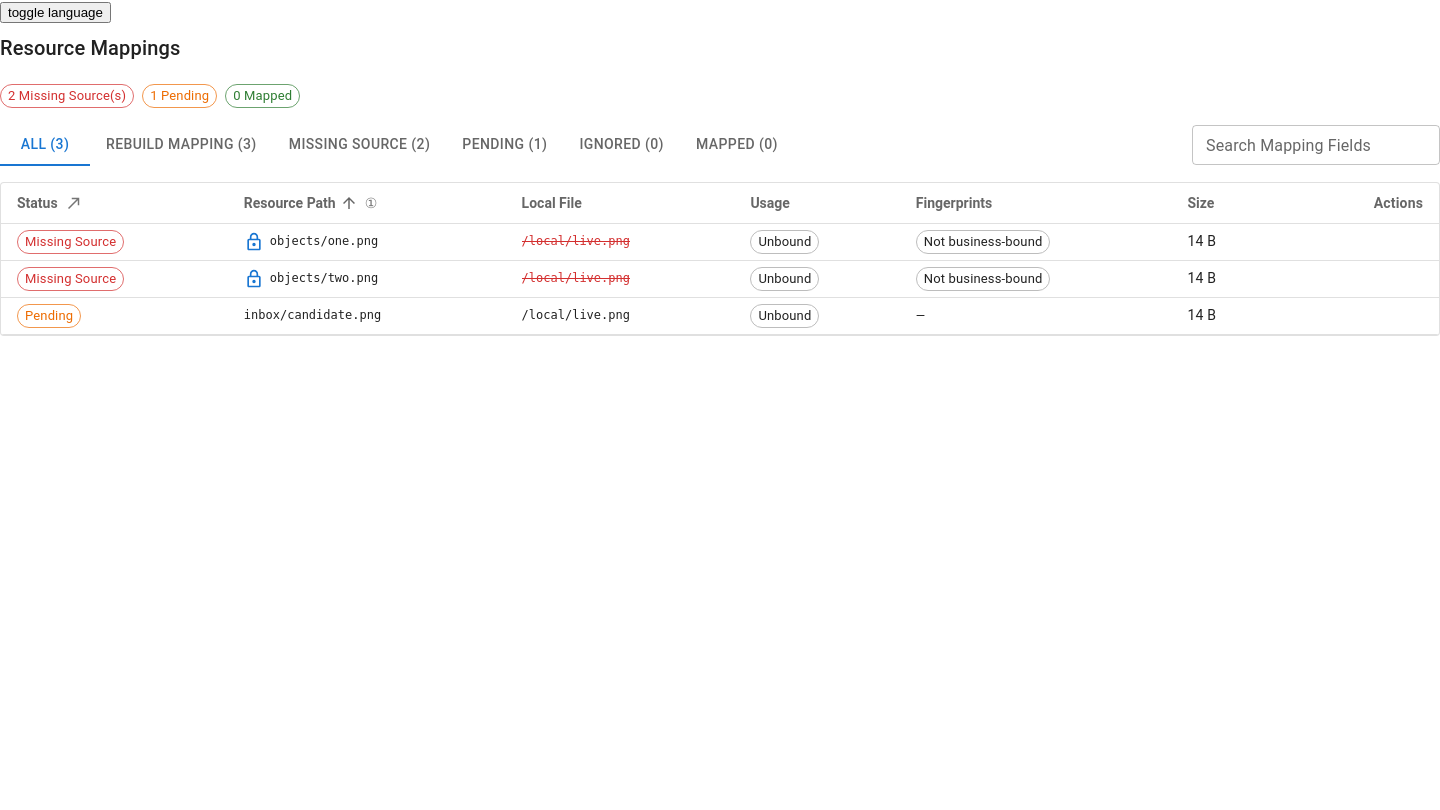
Test: preserves multi-selection when a manual rematch picker is opened and cancelled
expect the table is shown: met, box [1,182,1439,334]
Click the tab "Missing Source (2)".
click(360, 145)  # box [273,124,446,166]
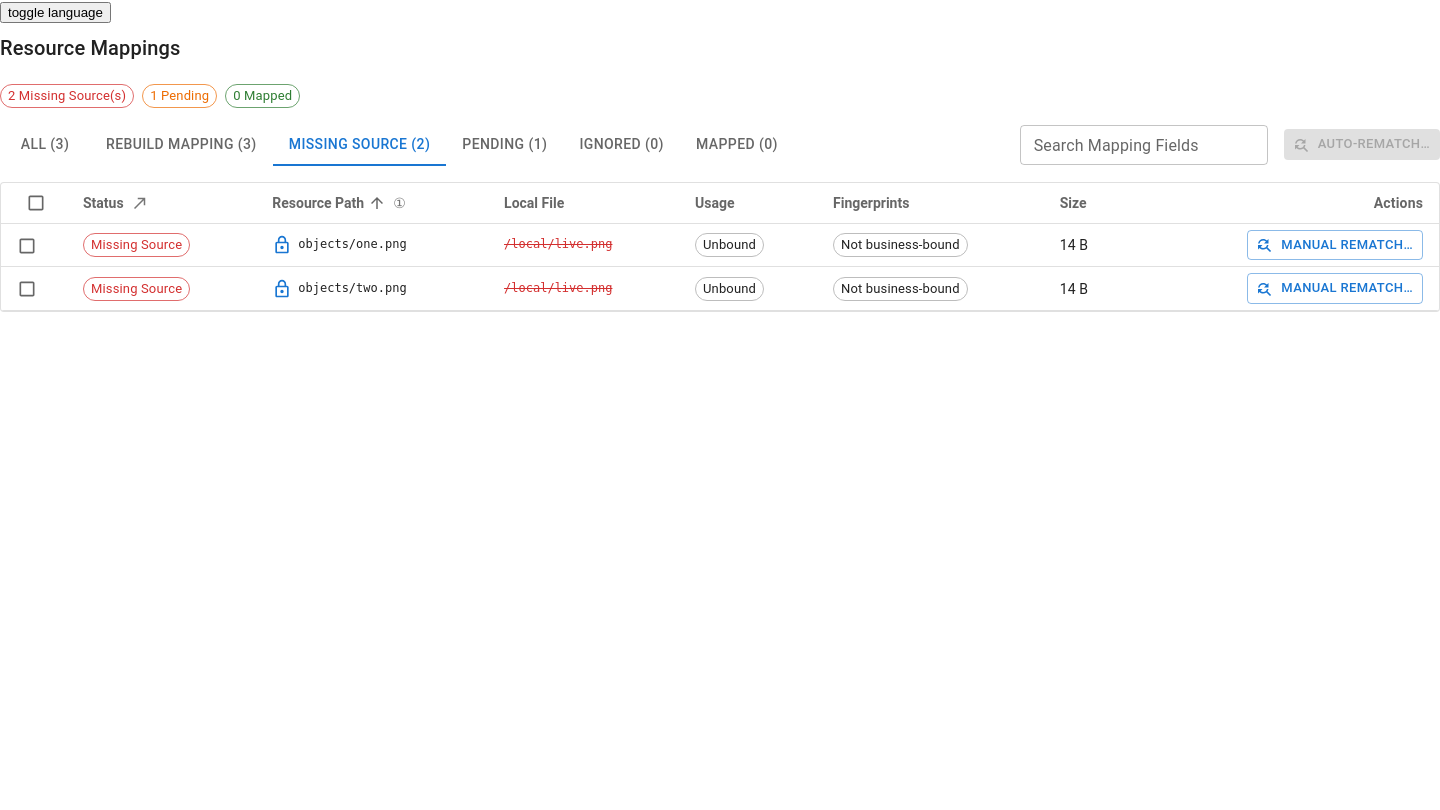
Click the checkbox named "Select objects/one.png to rematch".
click(27, 246)  # box [17,236,37,256]
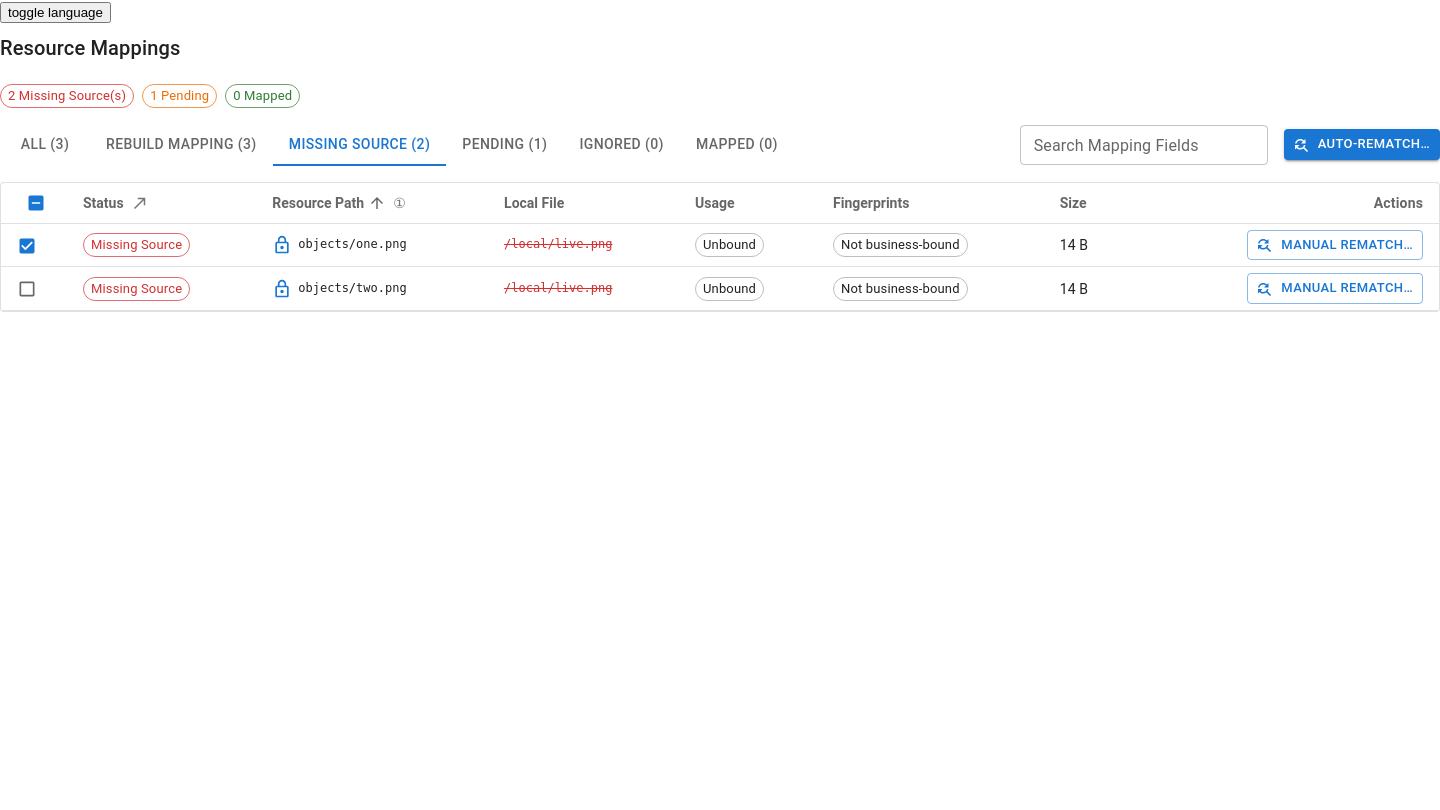
Click the checkbox named "Select objects/two.png to rematch".
click(27, 289)  # box [17,279,37,299]
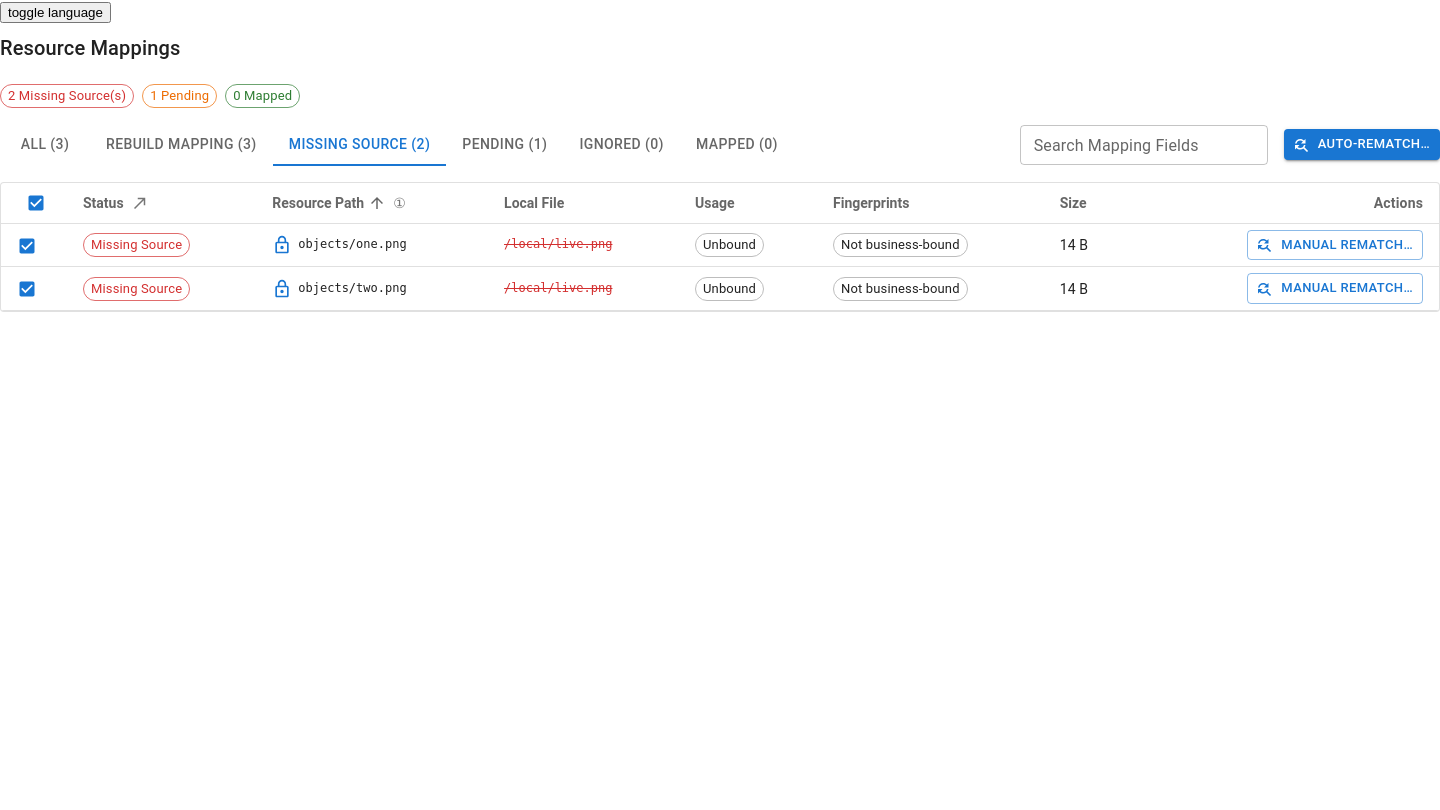
Click the 1st button "Manual rematch…".
click(1335, 245)  # box [1247,230,1423,260]
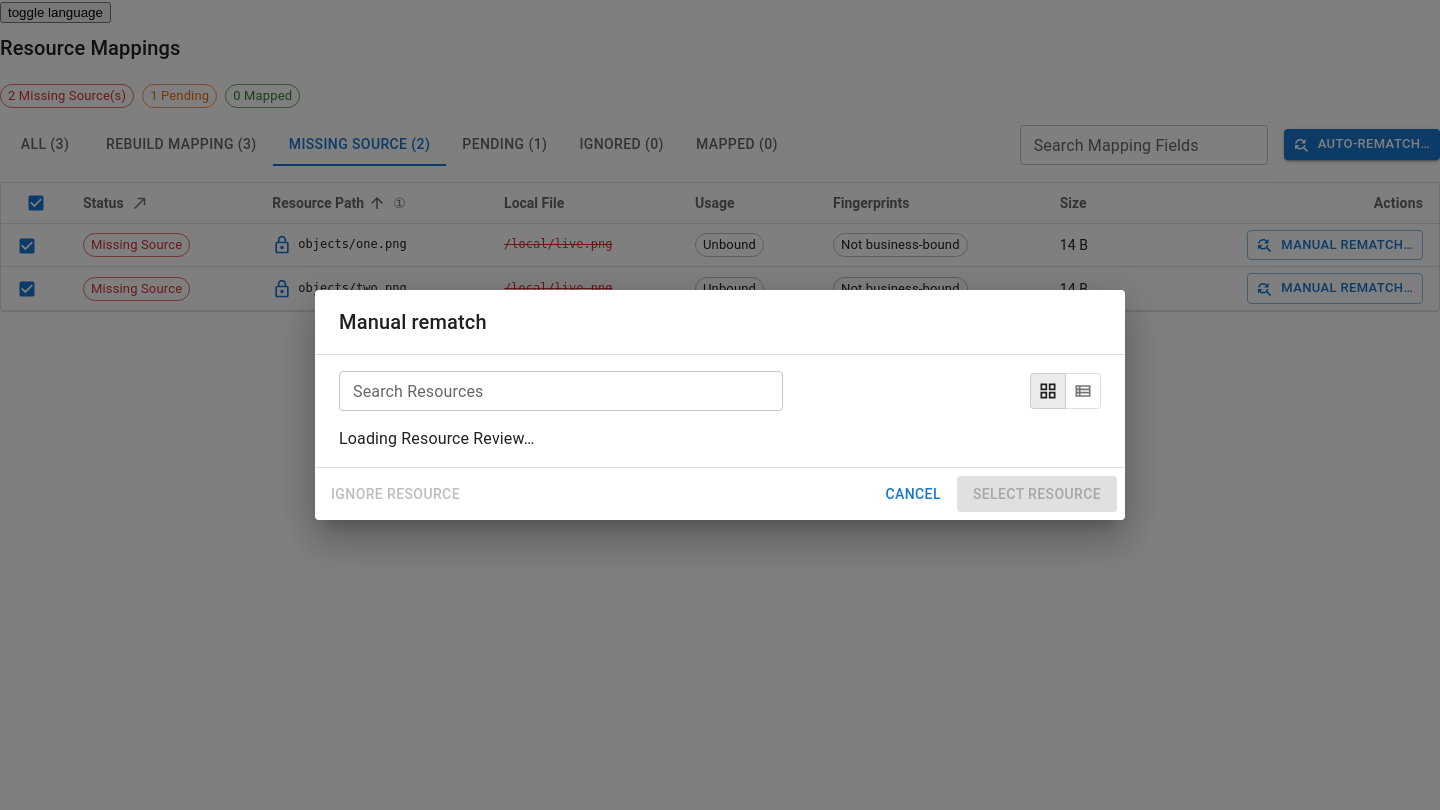
Click the button "Cancel".
click(913, 494)  # box [877,476,949,512]
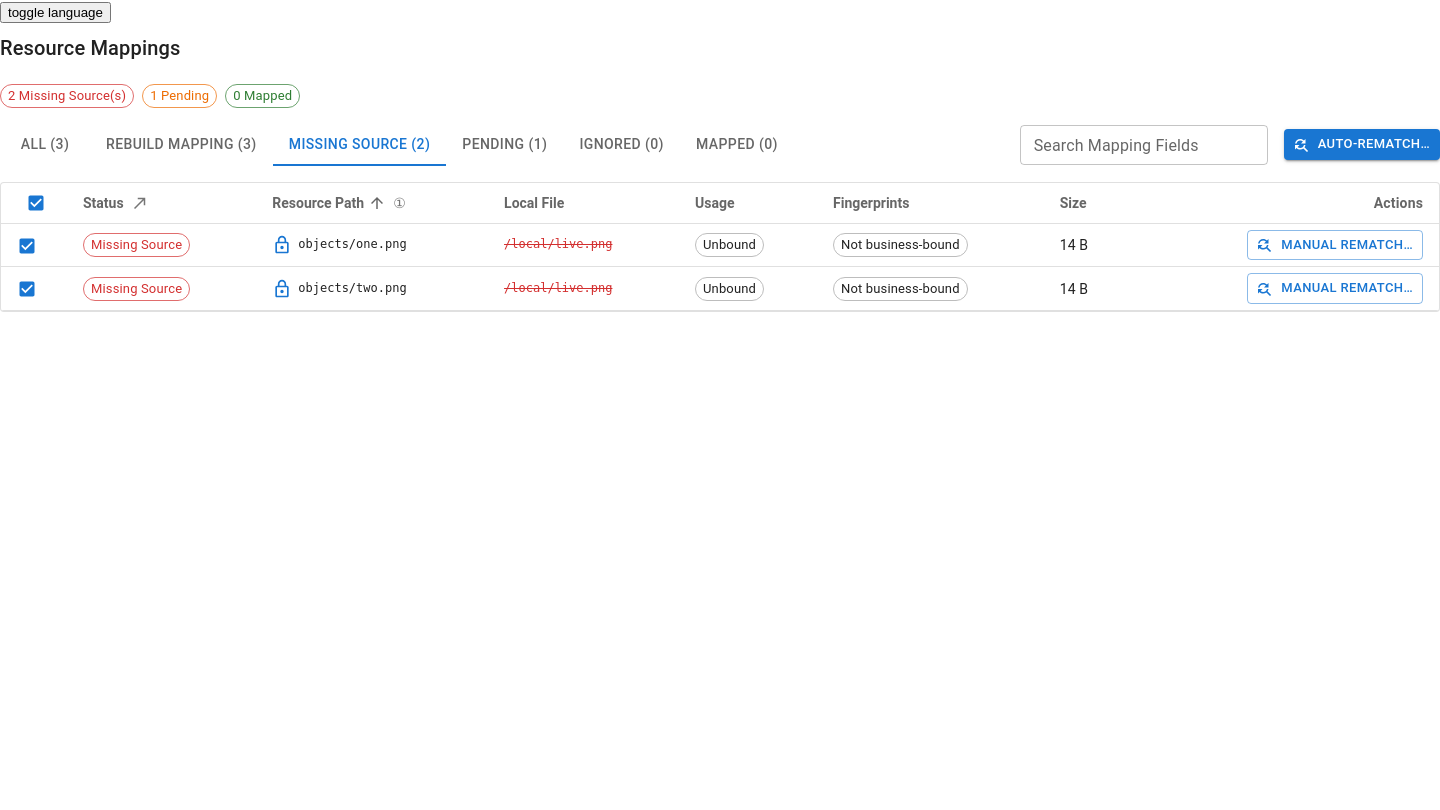
expect the checkbox named "Select objects/one.png to rematch" is checked: met, box [17,236,37,256]
expect the checkbox named "Select objects/two.png to rematch" is checked: met, box [17,279,37,299]
expect the dialog is gone: met
